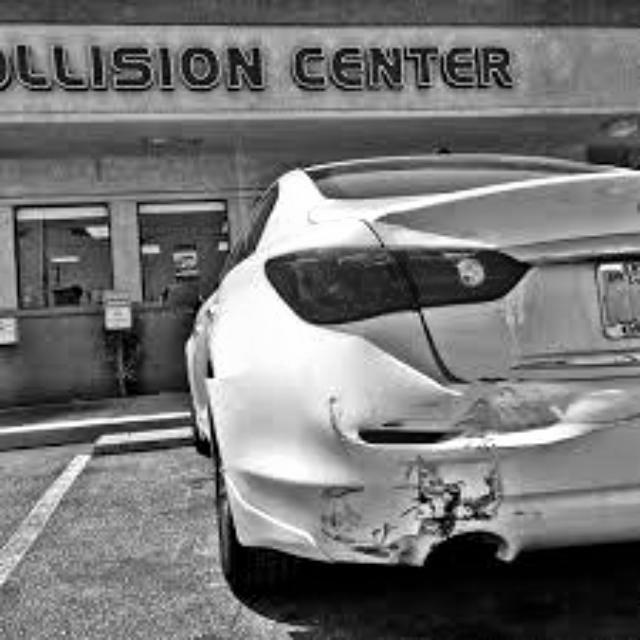rear-bumper-dent: (256, 404, 620, 580)
